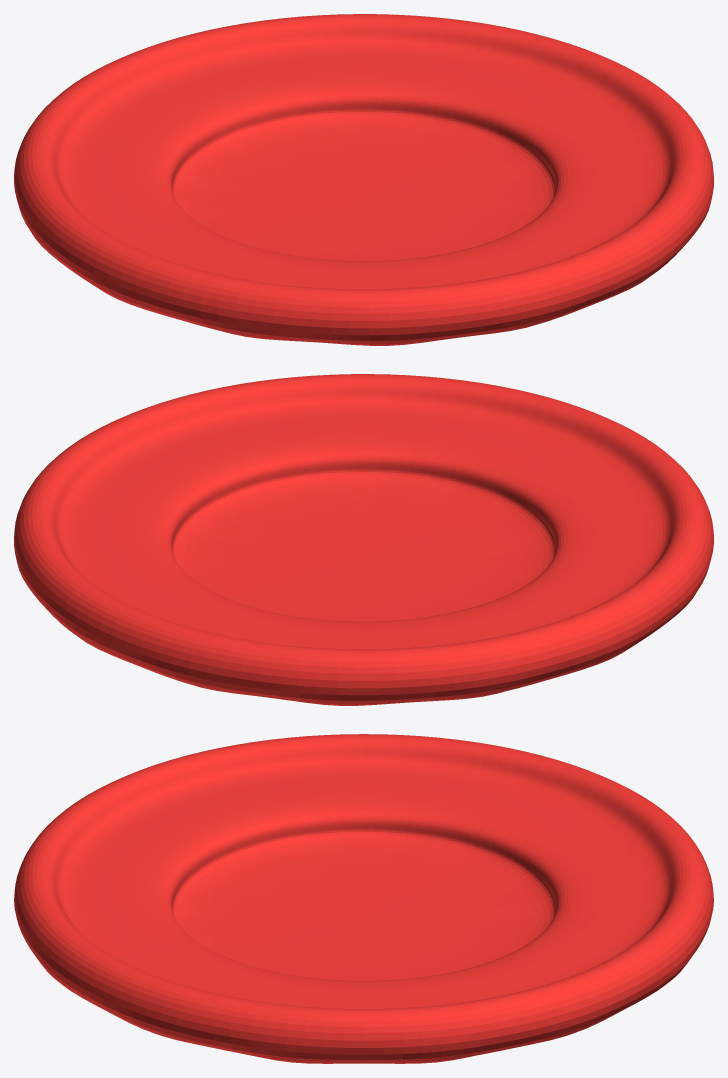
File: Pices.fbx
The picture shows the model from 3 angles, top to bottom: view 1: azimuth 30°, elevation 25°; view 2: azimuth 150°, elevation 25°; view 3: azimuth 270°, elevation 25°; orthographic projection.
Parts seen in each view (by area): view 1: Cylinder; view 2: Cylinder; view 3: Cylinder.
Boxes of the visible parts, left/top/right/bottom form: Cylinder: left=14, top=14, right=713, bottom=345; Cylinder: left=14, top=374, right=713, bottom=705; Cylinder: left=14, top=734, right=713, bottom=1063.
Size of the model in its own units: 172 by 22.66 by 172.
